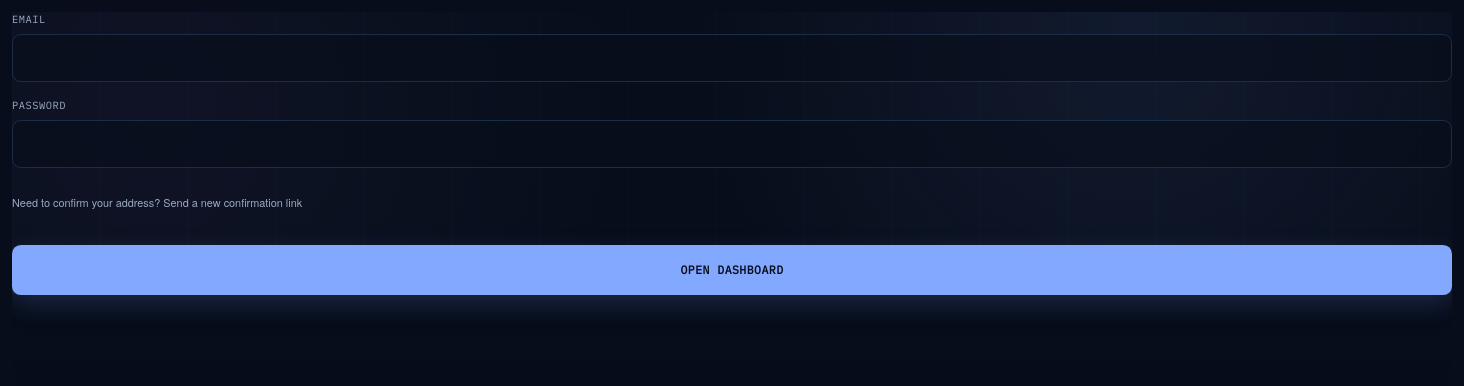
it: auth form navigation › does not navigate when the client receives an incomplete or failed sign-in response
Type "trader@example.com" into the field labelled "Email".
click(732, 58); type("trader@example.com")  # box [12, 34, 1452, 82]
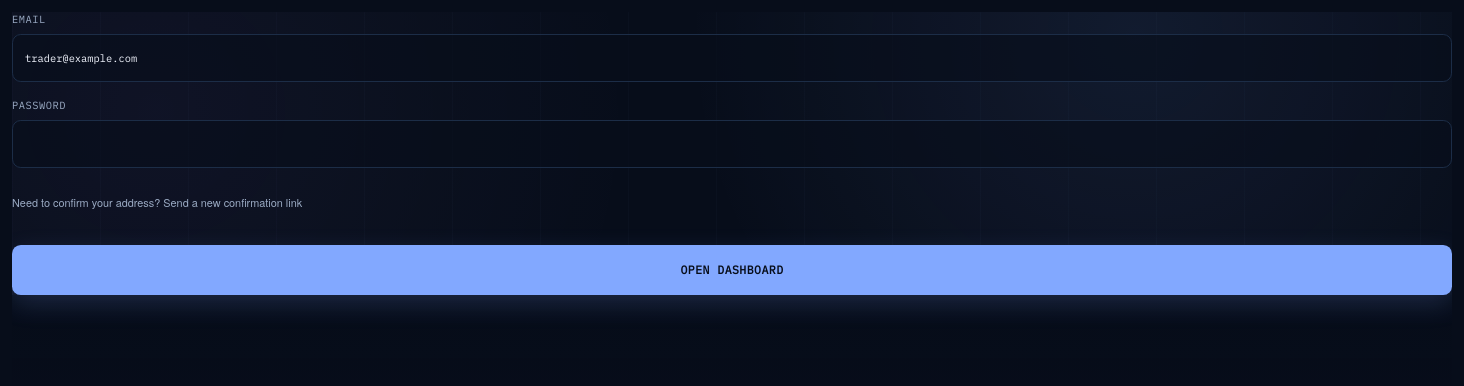
Type "correct password" into the password field labelled "Password".
click(732, 144); type("correct password")  # box [12, 120, 1452, 168]
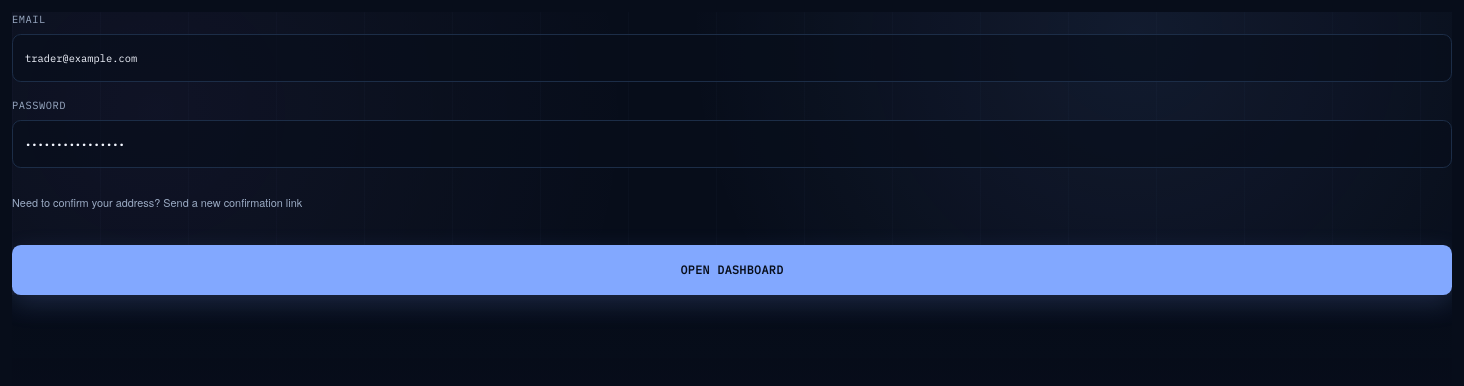
Click the button "Open dashboard".
click(732, 270)  # box [12, 245, 1452, 295]
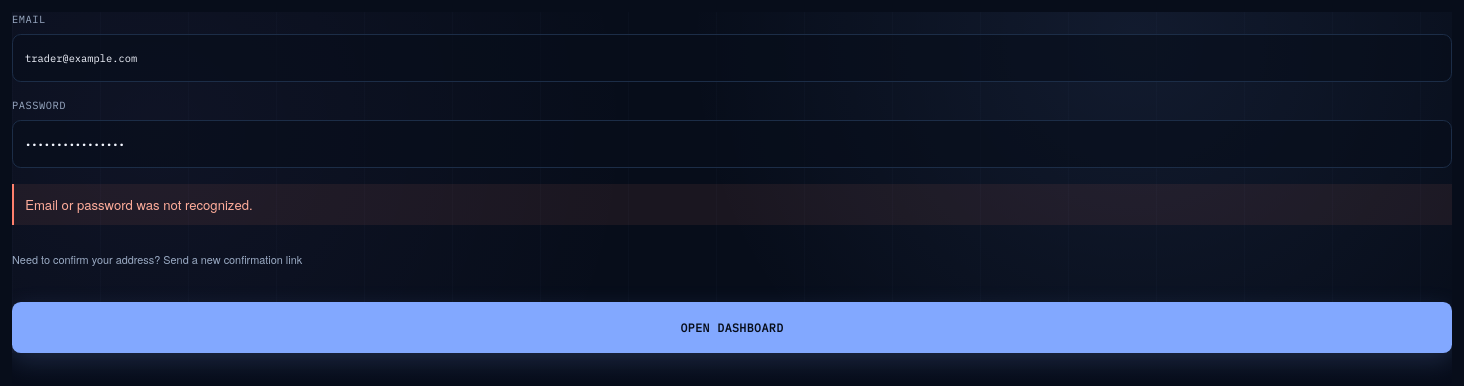
Check: the text "Email or password was not recognized." is shown, box [12, 184, 1452, 225]
